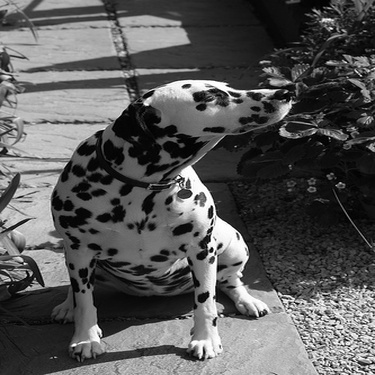dog: (25, 71, 310, 367)
